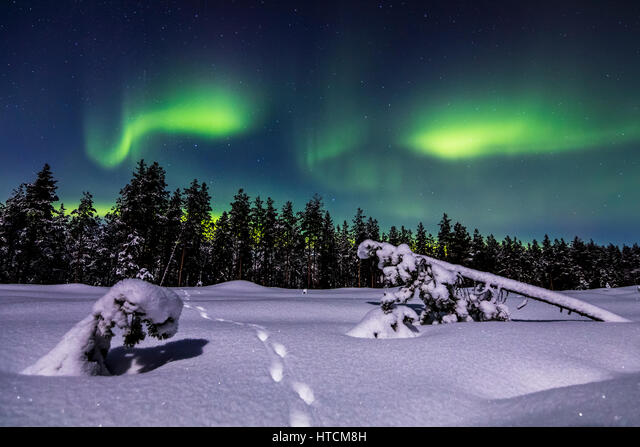fox: (293, 381, 318, 408), (268, 365, 287, 386)
